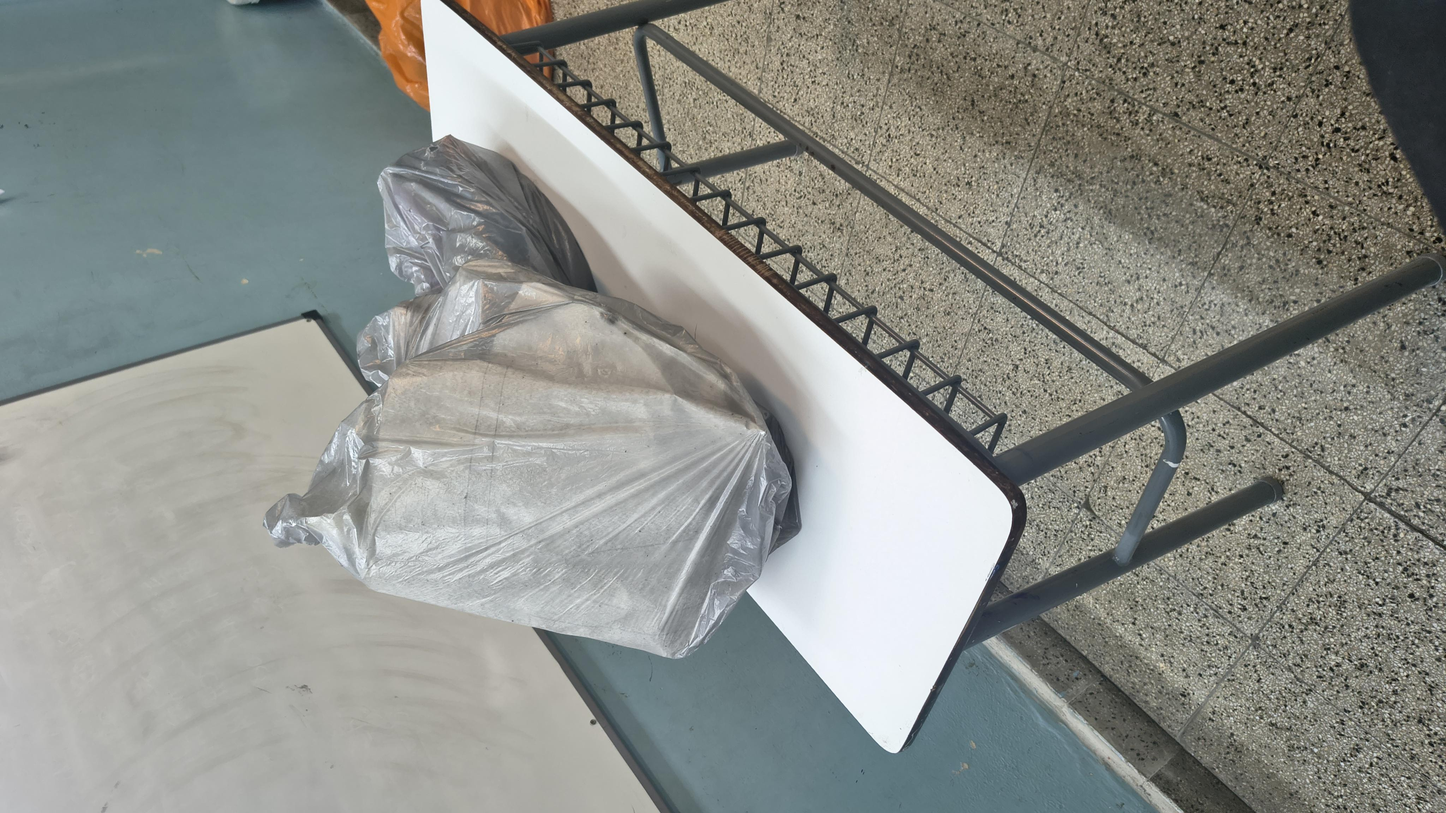Garbage: (264, 135, 1017, 462), (835, 163, 1243, 343)
